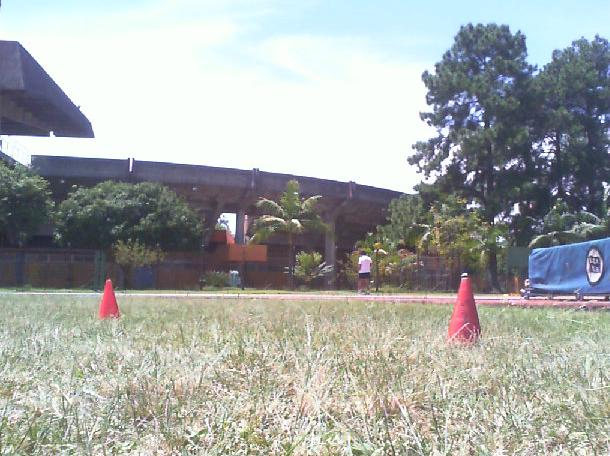0 cone: (446, 278, 483, 342), (98, 279, 121, 320)
